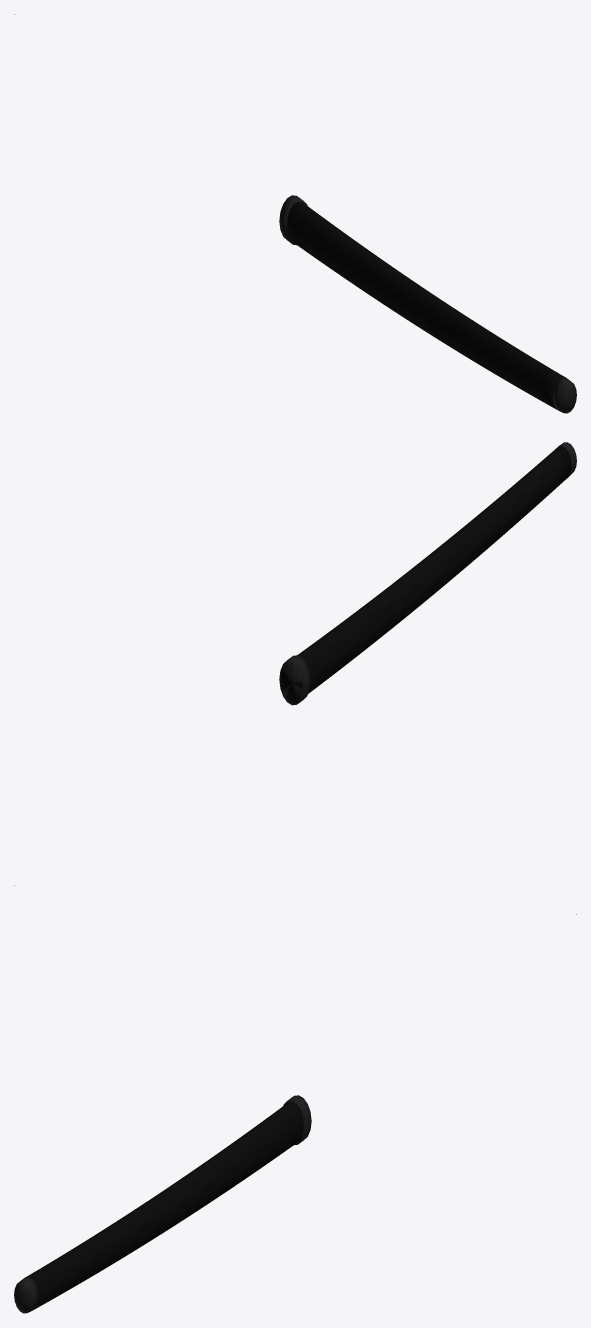
Rendered from KatanaSaya.fbx.
3 views of the same model, one above another, from view 1: azimuth 30°, elevation 25°; view 2: azimuth 150°, elevation 25°; view 3: azimuth 330°, elevation 25° (orthographic).
Parts seen in each view (by area): view 1: KatanaSaya; view 2: KatanaSaya; view 3: KatanaSaya.
Boxes of the visible parts, <box> form: KatanaSaya: <box>14,14,576,413</box>; KatanaSaya: <box>14,442,576,885</box>; KatanaSaya: <box>14,914,576,1313</box>.
Bounding box in the file's own units: 0.196 × 0.454 × 7.4.
Materials: 1 (1 with a texture image).
